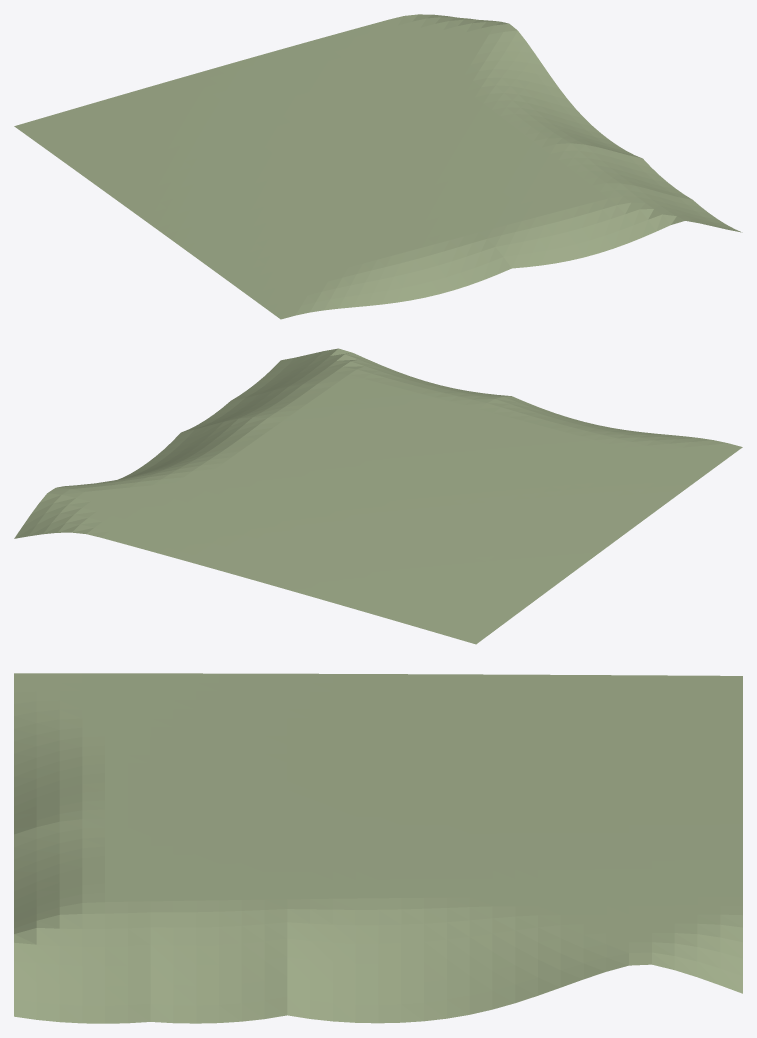
The model's file is gardens-0-2.glb.
3 renders of one model, top to bottom at view 1: azimuth 30°, elevation 25°; view 2: azimuth 150°, elevation 25°; view 3: azimuth 270°, elevation 25°, orthographic. The views are drawn at different scales.
Visible parts, largest first — view 1: gardens-0-2; view 2: gardens-0-2; view 3: gardens-0-2.
Part boxes in pixels (left/top/right/bottom): gardens-0-2: left=14, top=14, right=742, bottom=319; gardens-0-2: left=14, top=348, right=742, bottom=644; gardens-0-2: left=14, top=673, right=742, bottom=1023.
Bounding box in the file's own units: 256 × 24.13 × 256.
